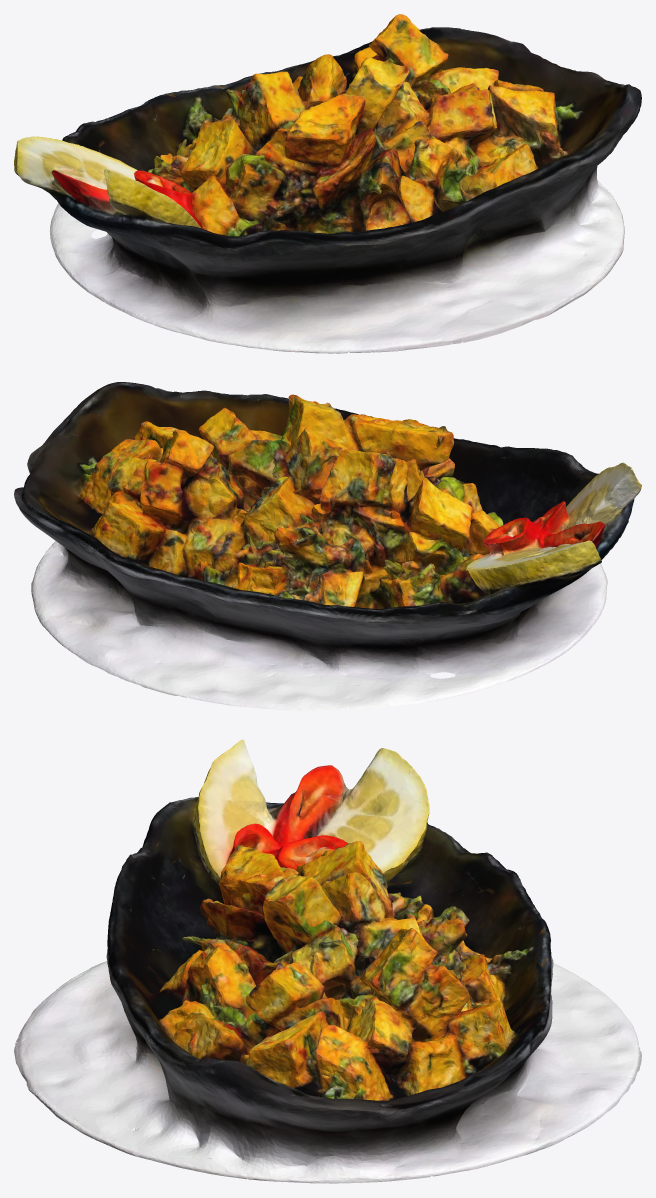
The model's file is batata-harra.glb.
3 views of the same model, one above another, from view 1: azimuth 30°, elevation 25°; view 2: azimuth 150°, elevation 25°; view 3: azimuth 270°, elevation 25° (orthographic). The views are drawn at different scales.
Bounding box in the file's own units: 0.2251 × 0.0651 × 0.1974.
Materials: 1 (1 with a texture image).
